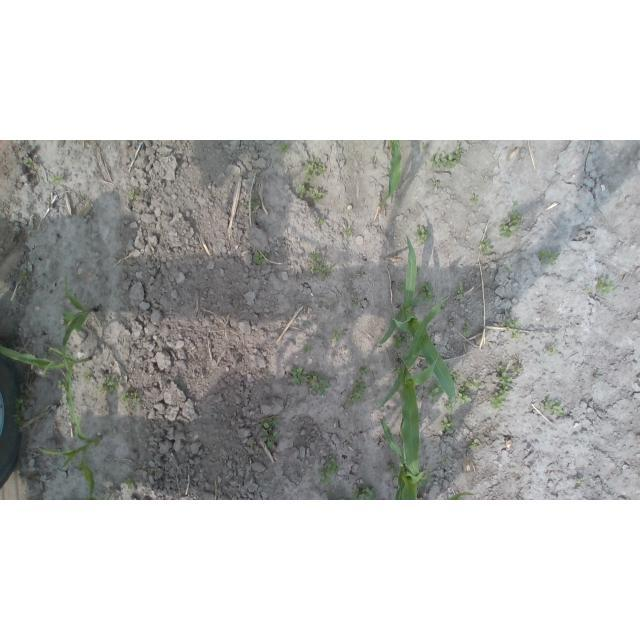Maize: (376, 236, 455, 409), (376, 296, 454, 413), (1, 342, 94, 426), (379, 369, 428, 500), (38, 423, 109, 500), (61, 279, 101, 348), (377, 143, 405, 210), (442, 492, 478, 501)
Weeds: (485, 360, 527, 409), (344, 368, 368, 405), (427, 147, 464, 169), (497, 211, 524, 240), (261, 414, 281, 448), (459, 375, 480, 405), (318, 459, 342, 484), (303, 155, 326, 179), (309, 252, 330, 276), (11, 394, 25, 430), (502, 314, 521, 340), (306, 376, 330, 396), (544, 397, 567, 417), (98, 373, 118, 395), (420, 280, 437, 304), (436, 414, 458, 432), (290, 363, 307, 385), (596, 277, 616, 295), (479, 236, 496, 256), (351, 485, 375, 499), (536, 251, 561, 264), (426, 385, 444, 403), (394, 329, 410, 349), (122, 390, 139, 408), (293, 184, 311, 201), (446, 369, 462, 386), (417, 223, 430, 243), (466, 440, 486, 453), (250, 248, 266, 264), (445, 398, 459, 415), (309, 190, 324, 205), (277, 141, 292, 153), (461, 321, 471, 338), (126, 191, 140, 201), (457, 285, 467, 299), (545, 347, 559, 357), (51, 174, 63, 185), (331, 329, 341, 342), (317, 214, 327, 224), (121, 477, 131, 487), (348, 227, 357, 238), (24, 156, 33, 166), (304, 345, 312, 355), (353, 295, 358, 310), (470, 196, 478, 205), (432, 181, 441, 188)
